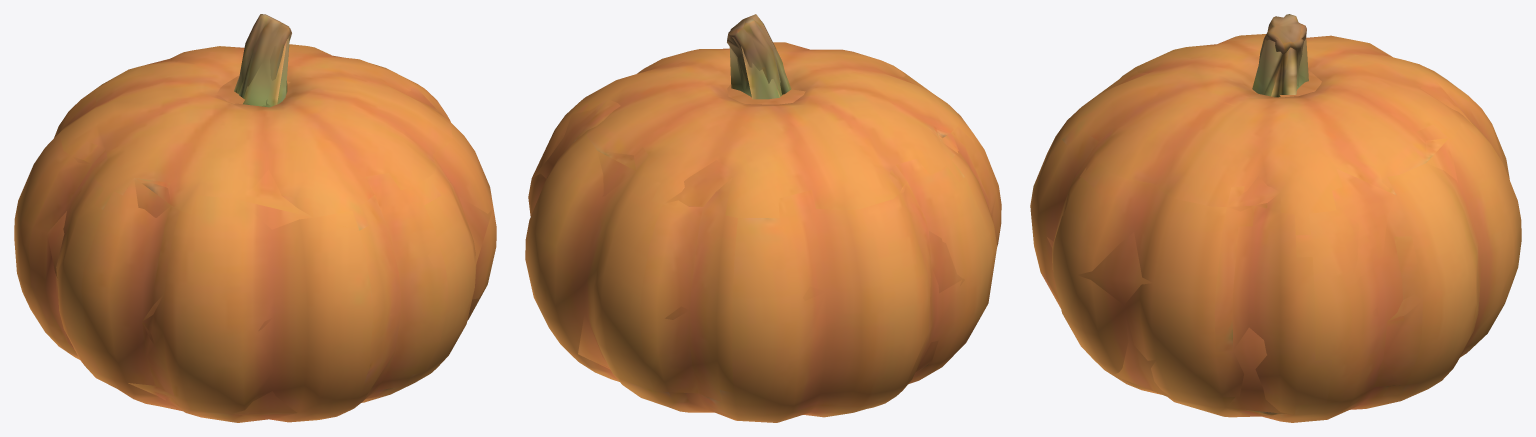
File: g3d_pumpkin.glb
The picture shows the model from 3 angles, left to right: view 1: azimuth 30°, elevation 25°; view 2: azimuth 150°, elevation 25°; view 3: azimuth 270°, elevation 25°; orthographic projection. The views are drawn at different scales.
Parts seen in each view (by area): view 1: pumpkin_body, pumpkin_body_lo; view 2: pumpkin_body, pumpkin_body_lo; view 3: pumpkin_body, pumpkin_body_lo.
Part boxes in pixels (box(x1,y1,x2,y2)): pumpkin_body: box(14, 14, 496, 422); pumpkin_body_lo: box(40, 24, 492, 422); pumpkin_body: box(525, 14, 1001, 422); pumpkin_body_lo: box(532, 45, 996, 412); pumpkin_body: box(1030, 14, 1521, 422); pumpkin_body_lo: box(1047, 23, 1476, 417).
Bounding box in the file's own units: 0.3431 × 0.2753 × 0.3426.
Materials: 1 (1 with a texture image).
